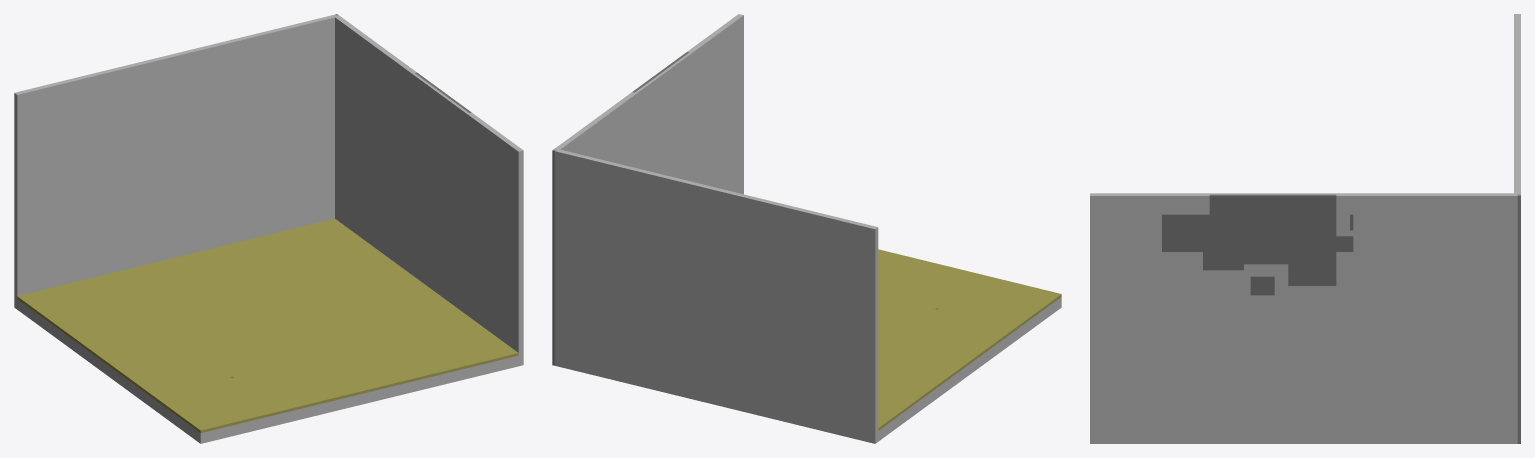
The model's file is 2x2 first (1)-2.obj.
The picture shows the model from 3 angles, left to right: view 1: azimuth 30°, elevation 25°; view 2: azimuth 150°, elevation 25°; view 3: azimuth 270°, elevation 25°; orthographic projection. The views are drawn at different scales.
Parts seen in each view (by area): view 1: 2x2 first (1)-2; view 2: 2x2 first (1)-2; view 3: 2x2 first (1)-2.
Boxes of the visible parts, left/top/right/bottom form: 2x2 first (1)-2: left=14, top=14, right=523, bottom=443; 2x2 first (1)-2: left=552, top=14, right=1061, bottom=443; 2x2 first (1)-2: left=1090, top=14, right=1520, bottom=443.
Bounding box in the file's own units: 126 × 80 × 126.
Materials: 1 (1 with a texture image).
